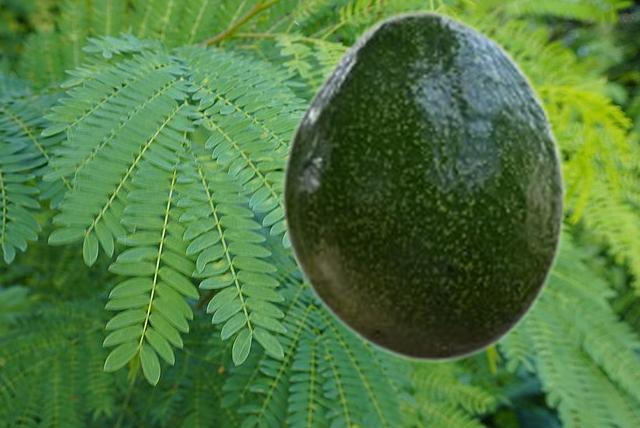avocado: (280, 10, 565, 363)
